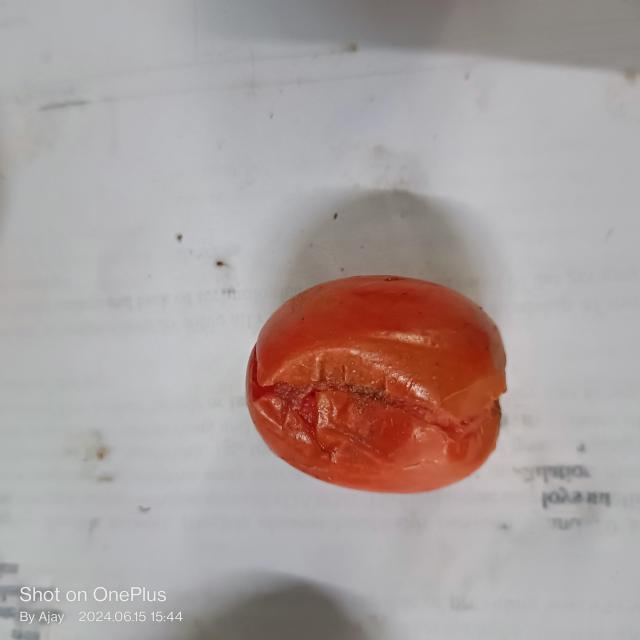Botrytis: (249, 381, 404, 406)
